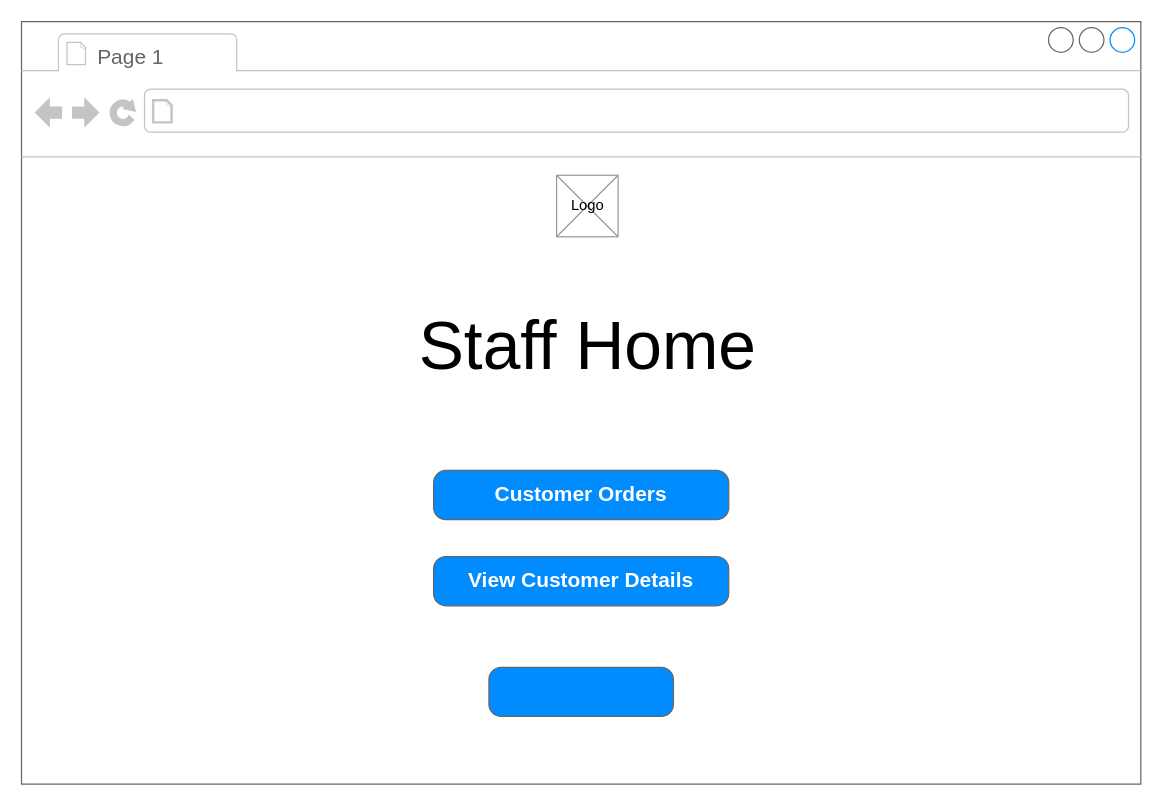
Image size: 1162x806. Some labels were removed from this diagram. Each missing label, with the centre of its shape:
Back: pixel 580 691
https://www.Admin_Home.html: pixel 334 116
